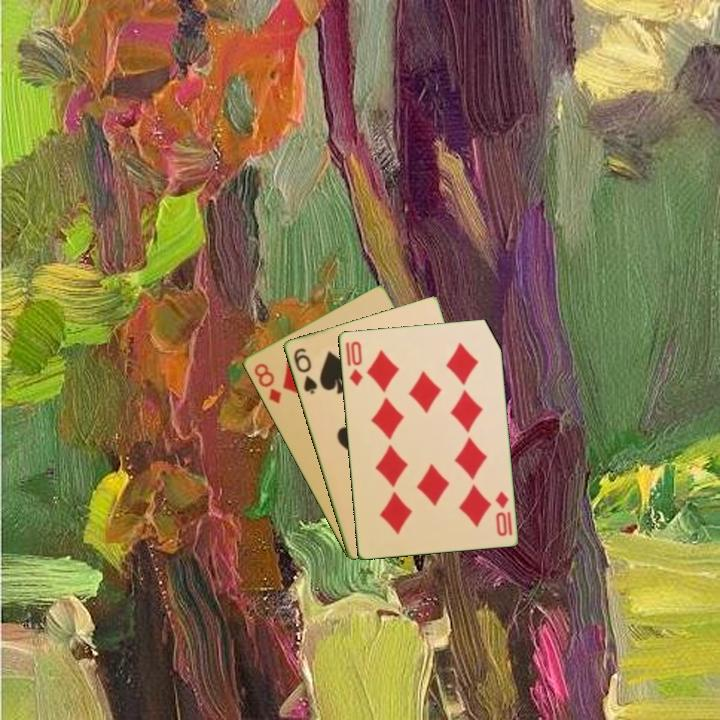10d: (492, 487, 515, 539), (346, 338, 365, 388)
6s: (290, 344, 320, 397)
8d: (250, 359, 284, 406)
